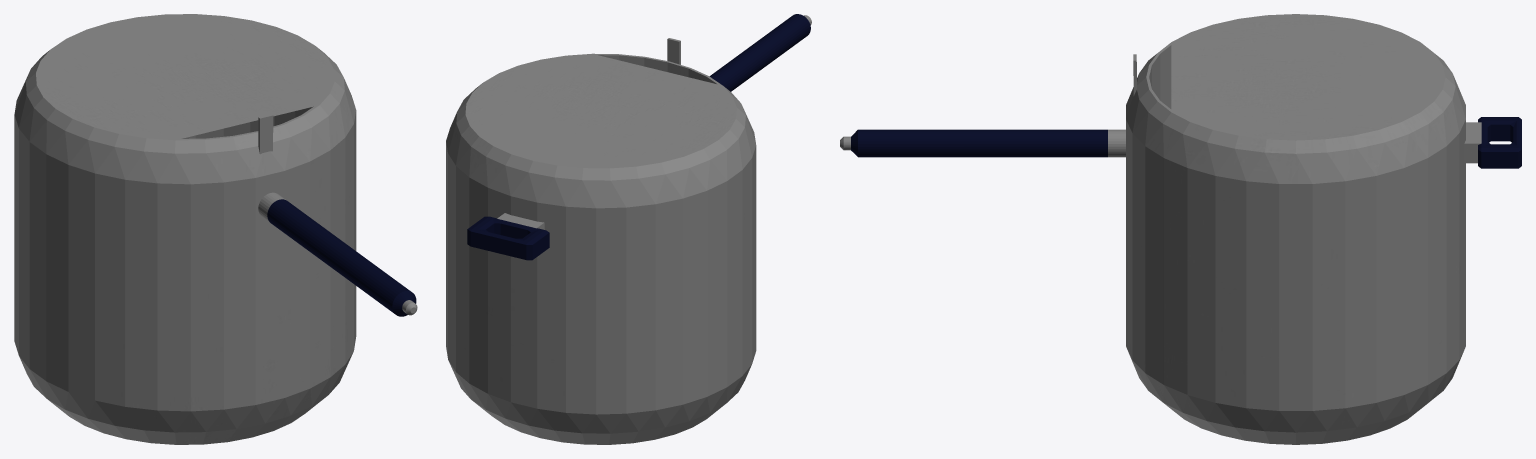
Rendered from PanelaPressaoCorpo.fbx.
The picture shows the model from 3 angles, left to right: view 1: azimuth 30°, elevation 25°; view 2: azimuth 150°, elevation 25°; view 3: azimuth 270°, elevation 25°; orthographic projection. The views are drawn at different scales.
Visible parts, largest first — view 1: Cylinder, Cylinder.001, Cube.007; view 2: Cylinder, Cylinder.001, Cube.001; view 3: Cylinder, Cylinder.001, Cube.001.
Part boxes in pixels (x1,y1,x2,y2): Cylinder: [14, 14, 356, 444]; Cylinder.001: [267, 199, 416, 316]; Cube.007: [258, 114, 273, 154]; Cylinder: [446, 53, 756, 444]; Cylinder.001: [709, 14, 810, 91]; Cube.001: [467, 216, 549, 260]; Cylinder: [1126, 14, 1465, 444]; Cylinder.001: [851, 129, 1107, 157]; Cube.001: [1478, 117, 1521, 168].
Size of the model in its own units: 134 by 143 by 268.
Materials: 2 (2 with a texture image).
